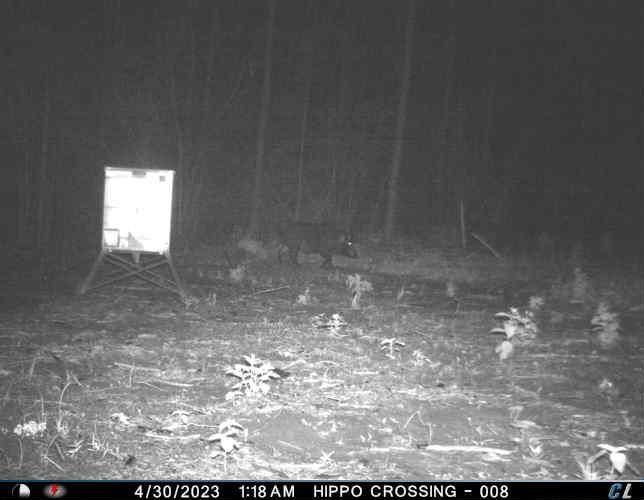Hog: (274, 217, 359, 271)
